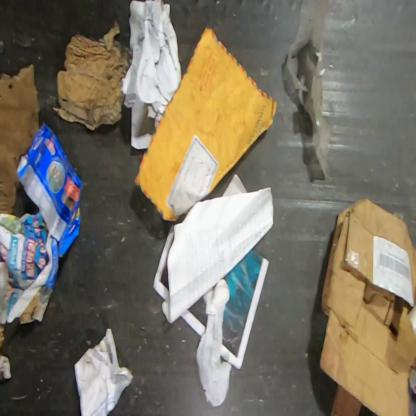cardboard: (318, 195, 415, 415), (15, 120, 84, 259), (56, 21, 134, 131), (0, 63, 41, 215)
soft_plastic: (279, 0, 337, 189)
